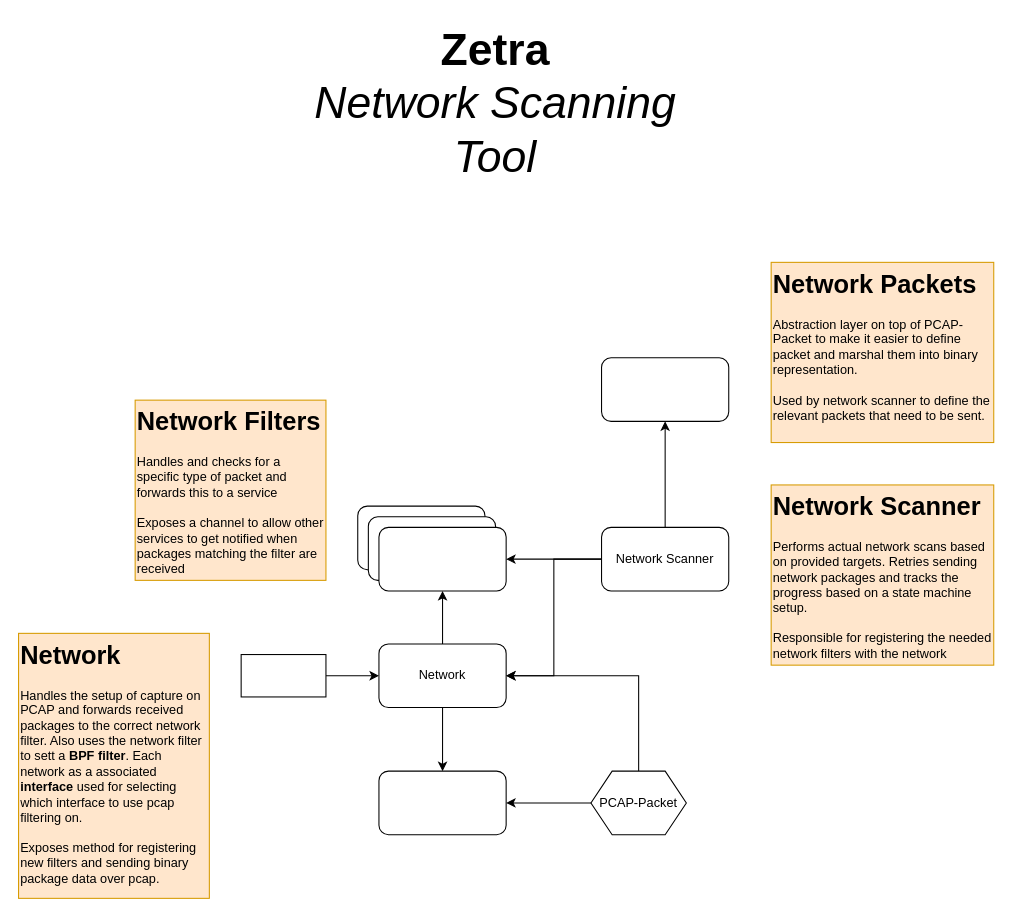
Image size: 1012x919. Some labels were removed from this diagram. The shapes that lost their labels are listed below. From the top down, each one's centre as x and y in pixels, then its label:
At point (664, 389): "Network Packets".
At point (442, 558): "Network Filters".
At point (283, 675): "Interface".
At point (442, 802): "PCAP".
